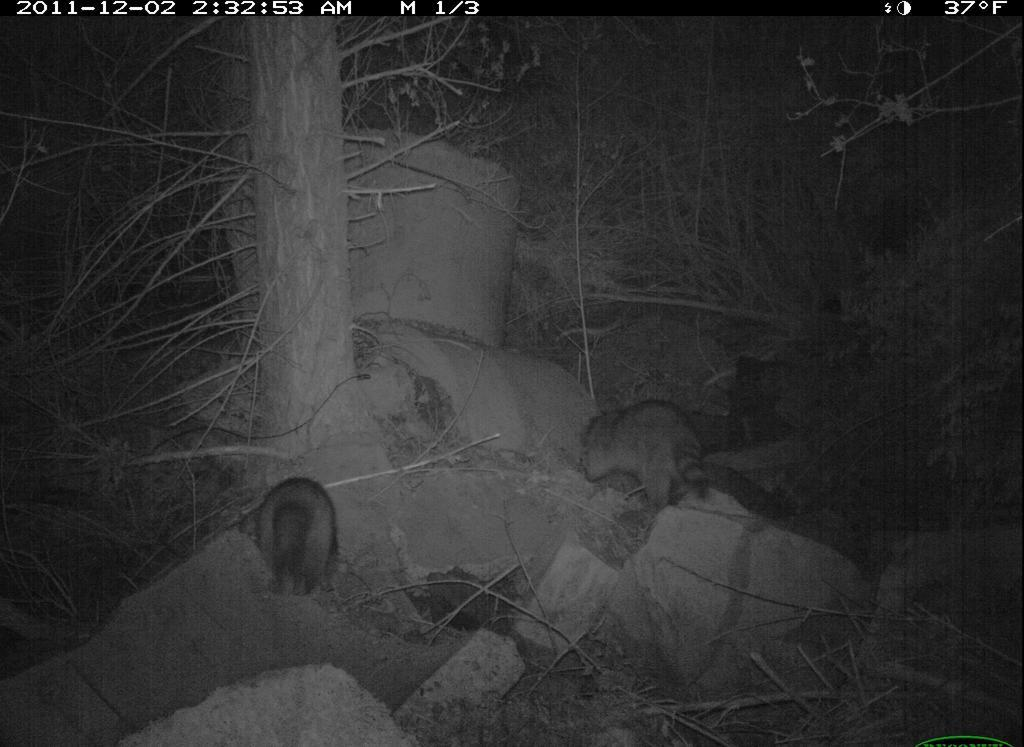raccoon: (578, 397, 797, 530), (249, 473, 345, 606)
